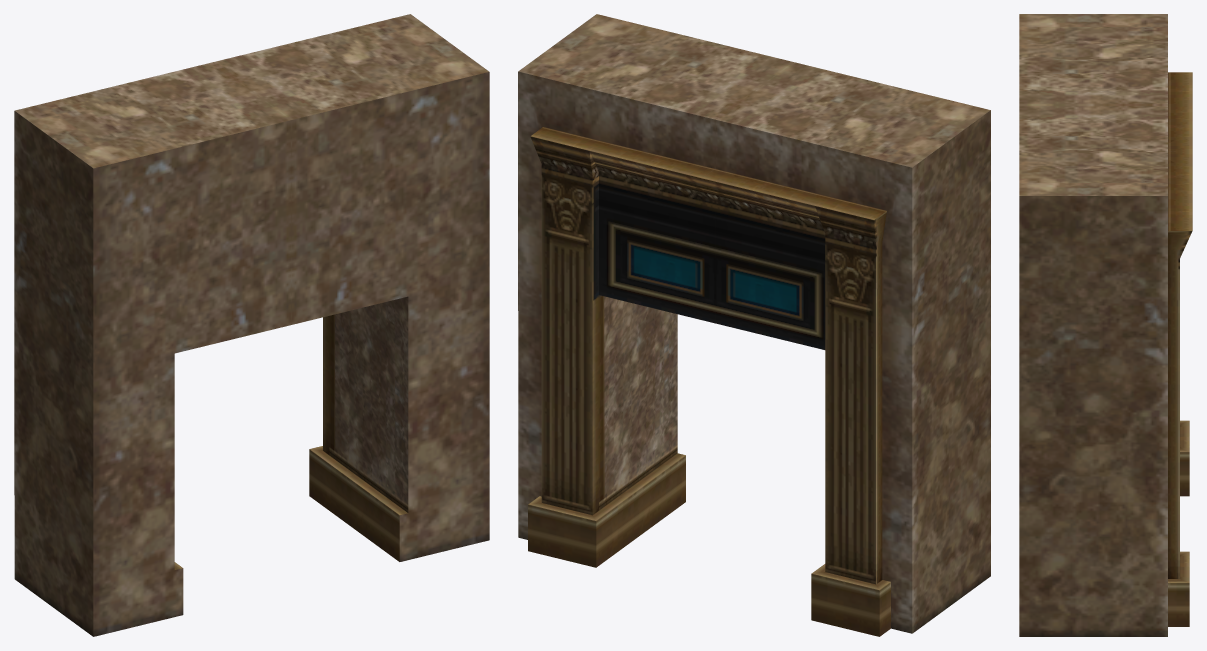
File: furni_0200324_02.FBX
3 views of the same model, side by side, from view 1: azimuth 30°, elevation 25°; view 2: azimuth 150°, elevation 25°; view 3: azimuth 270°, elevation 25° (orthographic). The views are drawn at different scales.
Visible parts, largest first — view 1: furni_0200324_02; view 2: furni_0200324_02; view 3: furni_0200324_02.
Part boxes in pixels (left/top/right/bottom): furni_0200324_02: left=14, top=14, right=489, bottom=636; furni_0200324_02: left=518, top=14, right=990, bottom=636; furni_0200324_02: left=1019, top=14, right=1192, bottom=636.
Bounding box in the file's own units: 160 × 181 × 64.4.
